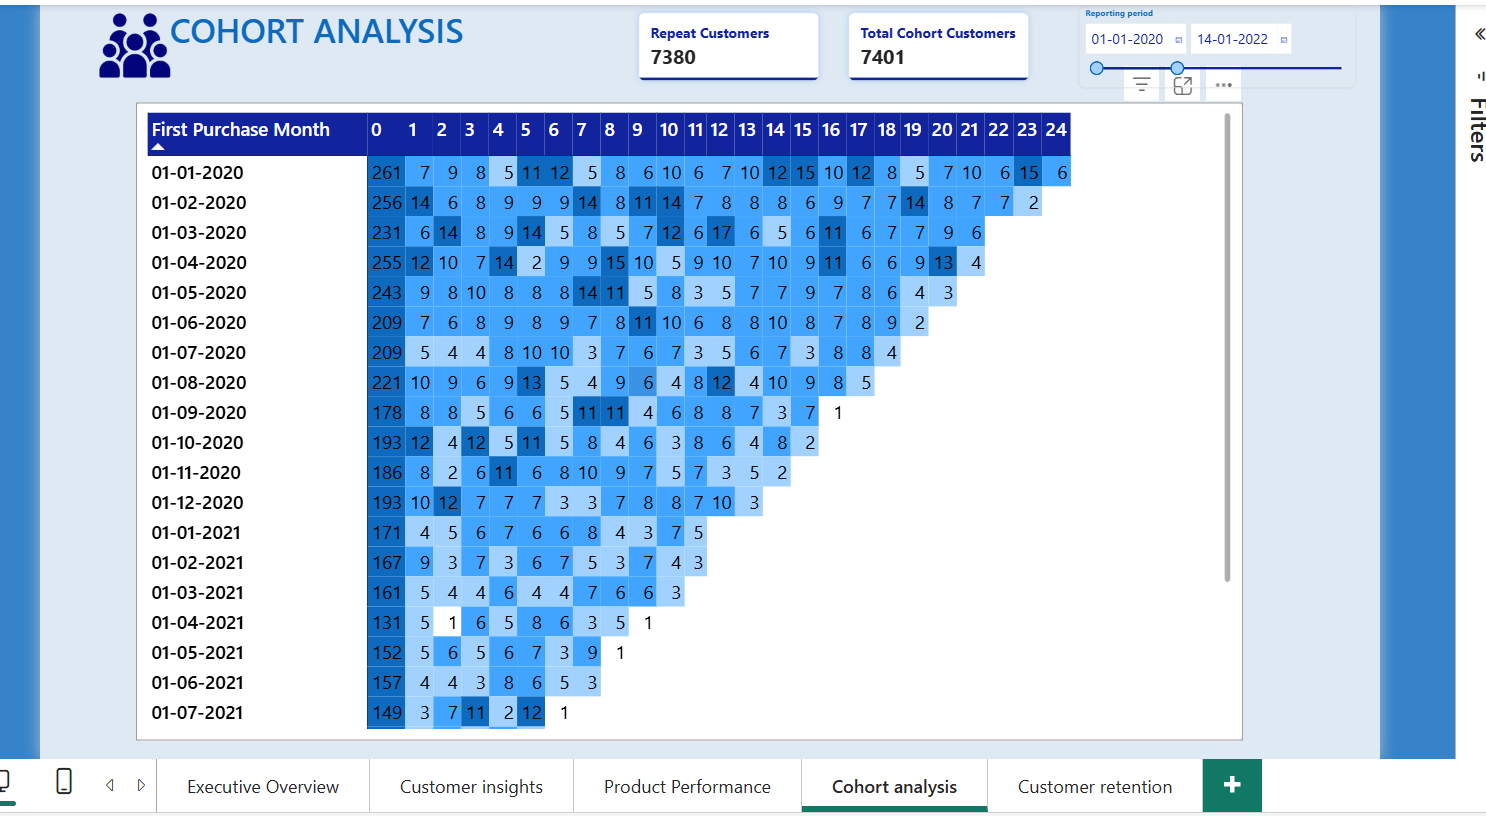

Layout of this report page (visuals, bound fields, positions):
{"tool":"powerbi","page":{"name":"Cohort analysis","canvas":[1920,1080],"ordinal":3},"visuals":[{"type":"pivotTable","fields":{"Columns":["orders.Cohort Index"],"Rows":["customers.First Purchase Month"],"Values":["_Measures Table.Unique purchasing customers"]},"box":[137,139.4,1585.3,914.3],"z":0},{"type":"slicer","fields":{"Values":["Dim_date.Date"]},"box":[1488.5,2.4,394.6,115.8],"z":1},{"type":"cardVisual","fields":{"Data":["_Measures Table.Repeat Customers"]},"box":[846.6,0,280.6,119.6],"z":2},{"type":"cardVisual","fields":{"Data":["_Measures Table.Total Cohort Customers"]},"box":[1148.2,0,280.6,119.6],"z":3},{"type":"textbox","box":[137,2.4,517.4,73.2],"z":4},{"type":"image","box":[47.3,0,177.2,115.8],"z":5}]}

Visuals, with their boxes on the page's 1920x1080 design canvas (x1, y1, x2, y2). These are canvas units, not pixel positions in the 1486x816 screenshot, which may show the page scaled, cropped or inside an application window:
pivotTable - orders.Cohort Index x customers.First Purchase Month: (137,139,1722,1054)
slicer - Dim_date.Date: (1488,2,1883,118)
cardVisual - _Measures Table.Repeat Customers: (847,0,1127,120)
cardVisual - _Measures Table.Total Cohort Customers: (1148,0,1429,120)
textbox: (137,2,654,76)
image: (47,0,224,116)
